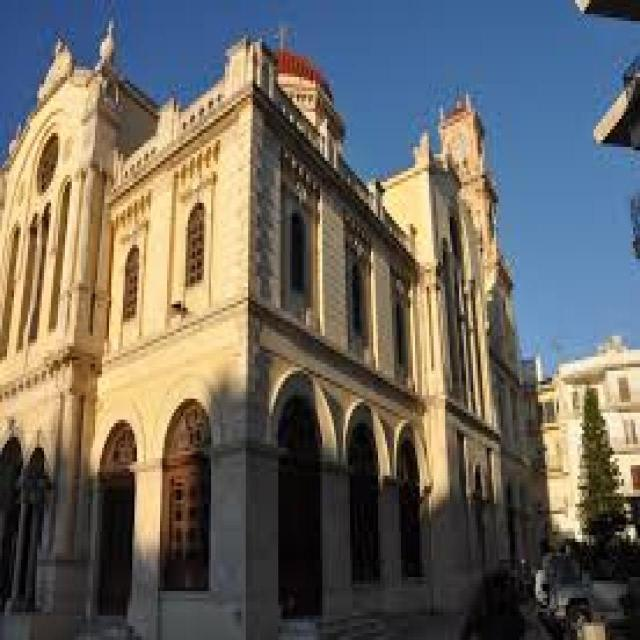Agios Minas: (6, 4, 539, 640)
